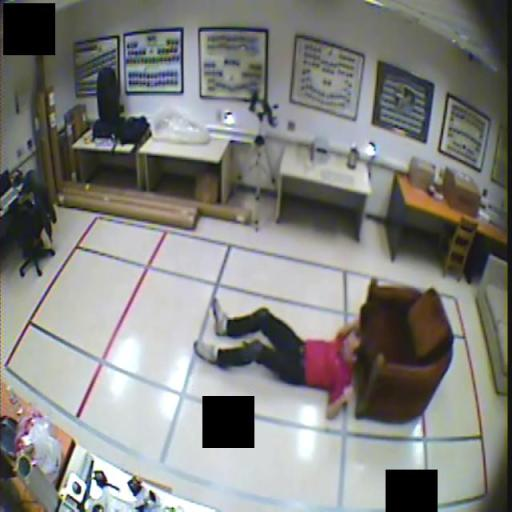Fall: (192, 295, 364, 422)
